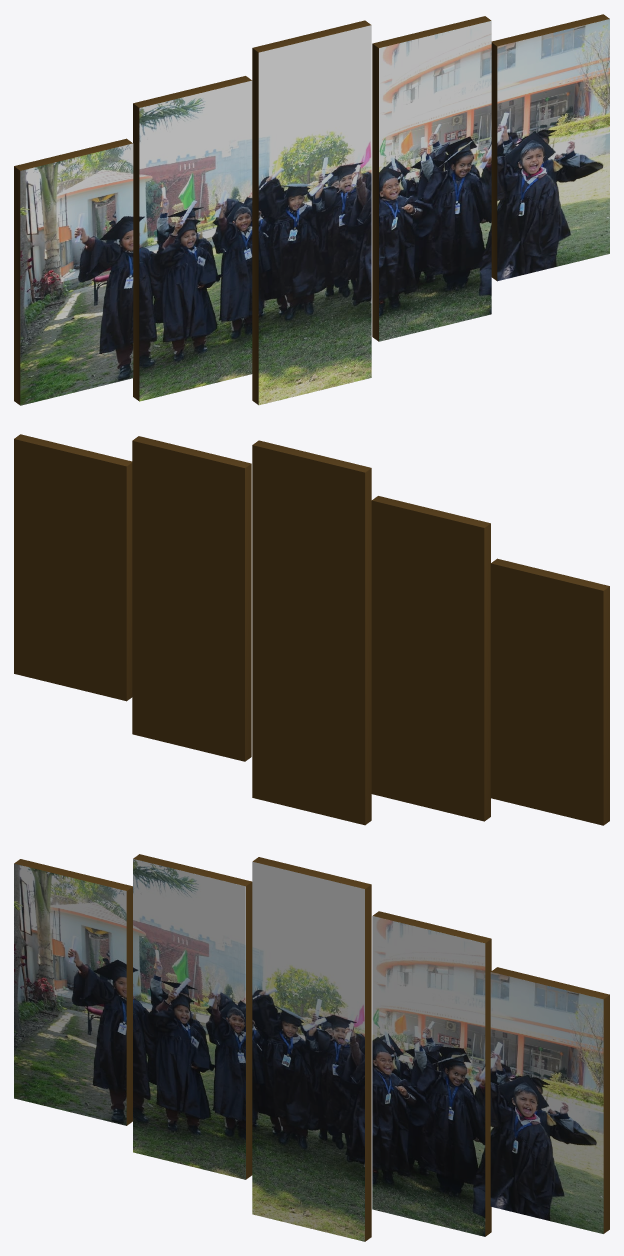
Rendered from graduation.gltf.
The picture shows the model from 3 angles, top to bottom: view 1: azimuth 30°, elevation 25°; view 2: azimuth 150°, elevation 25°; view 3: azimuth 330°, elevation 25°; orthographic projection.
Visible parts, largest first — view 1: Mosaic painting; view 2: Mosaic painting; view 3: Mosaic painting.
Part boxes in pixels (bbox=[...]): Mosaic painting: bbox=[14, 14, 609, 405]; Mosaic painting: bbox=[14, 434, 609, 825]; Mosaic painting: bbox=[14, 854, 609, 1241].
Bounding box in the file's own units: 2.64 × 1.51 × 0.05.
2 materials, 1 textured.
